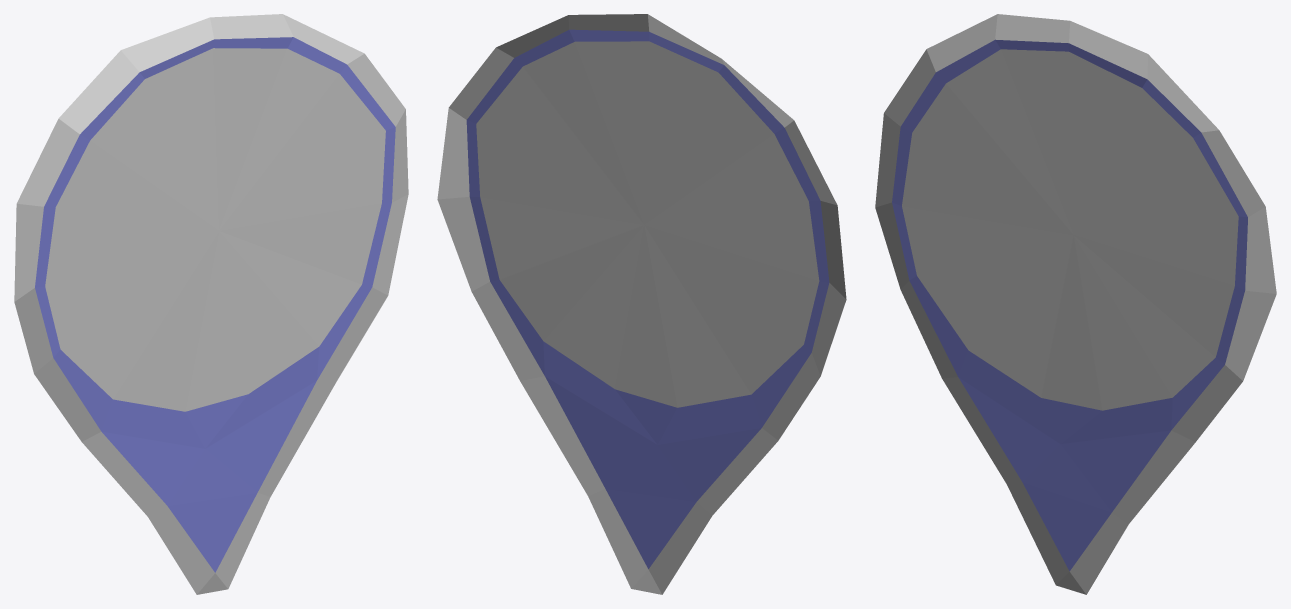
File: ui_sapienMarkerNew.glb
The picture shows the model from 3 angles, left to right: view 1: azimuth 30°, elevation 25°; view 2: azimuth 150°, elevation 25°; view 3: azimuth 330°, elevation 25°; orthographic projection.
Parts seen in each view (by area): view 1: Cylinder; view 2: Cylinder; view 3: Cylinder.
Part boxes in pixels (x1,y1,x2,y2): Cylinder: [14, 14, 408, 594]; Cylinder: [437, 14, 846, 594]; Cylinder: [875, 14, 1276, 594].
Bounding box in the file's own units: 1.92 × 2.64 × 0.0909.
